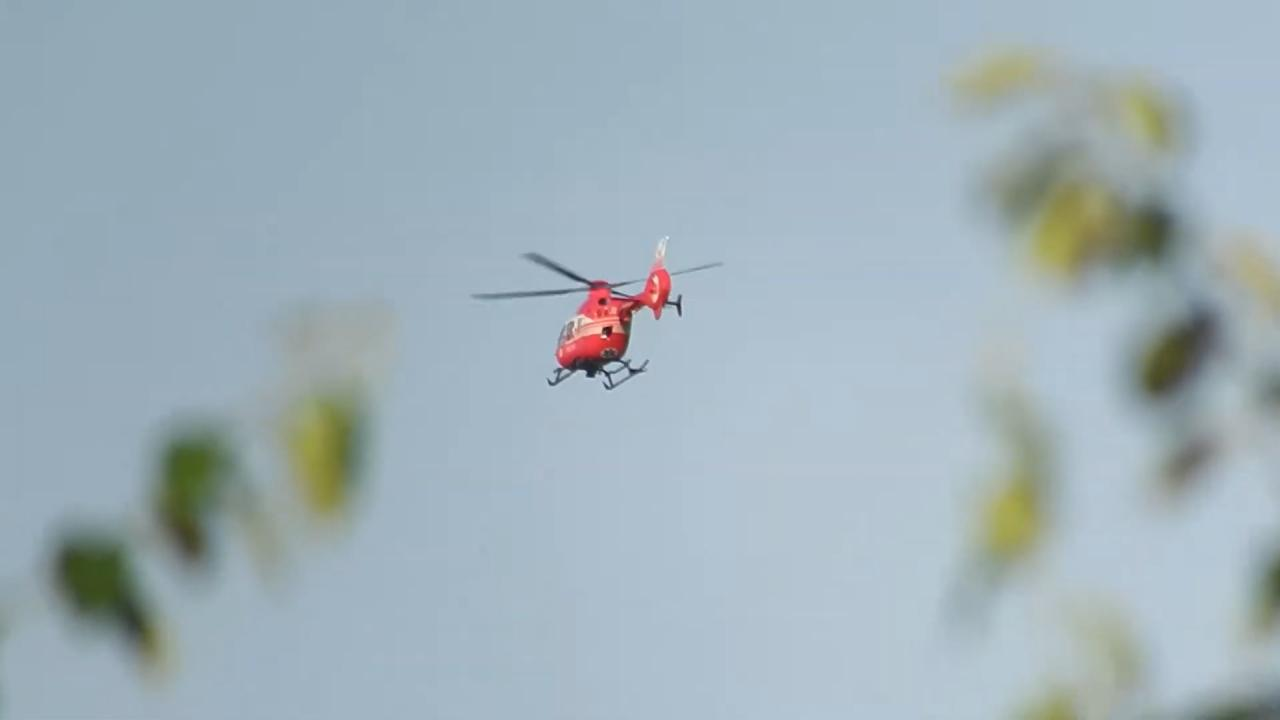Helicopter: (448, 220, 753, 418)
